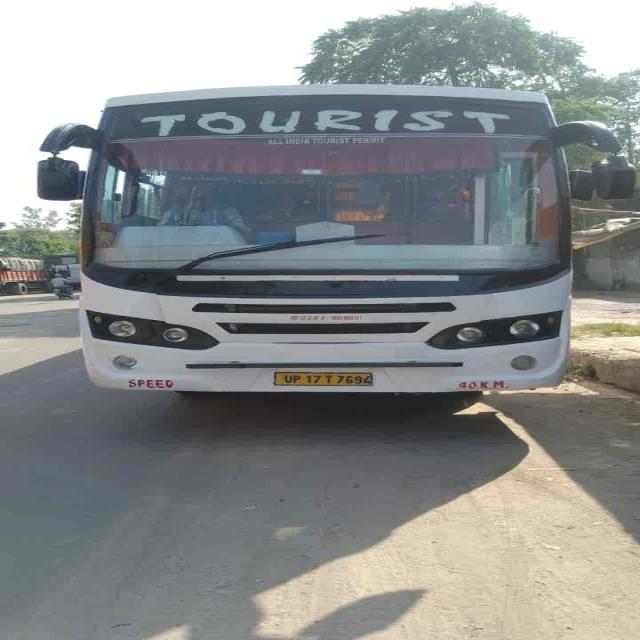bus: (39, 84, 614, 400)
